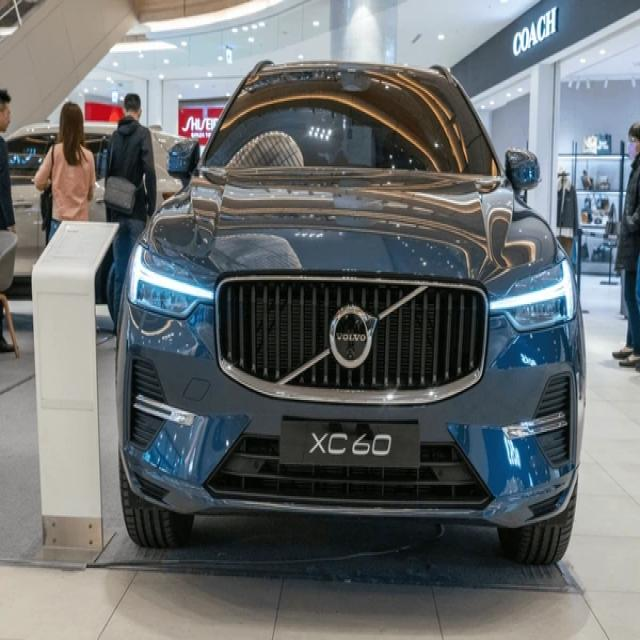volvo: (308, 296, 391, 373)
